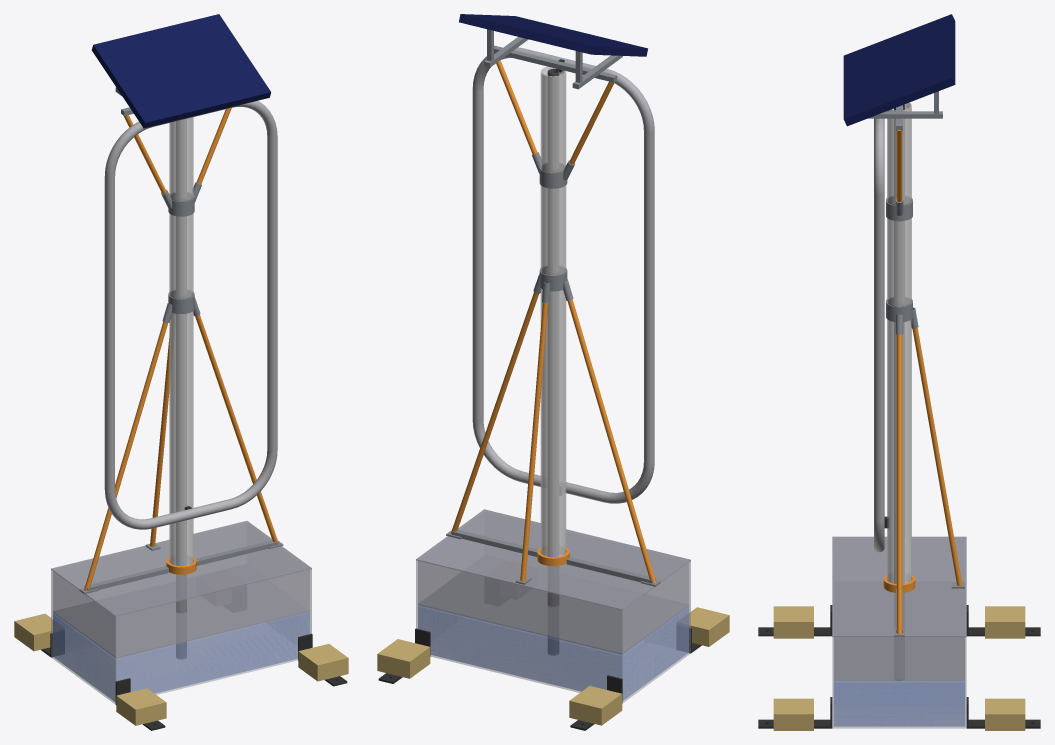
Rendered from unit-water.glb.
3 views of the same model, side by side, from view 1: azimuth 30°, elevation 25°; view 2: azimuth 150°, elevation 25°; view 3: azimuth 270°, elevation 25° (orthographic). The views are drawn at different scales.
Visible parts, largest first — view 1: tank, solar_panel_30W, track_loop, lid, water_volume, growing_pipe, shelf, spine_tube, sandbags, lower_aframe_and_back_strut_16mm, base_bar_and_lid_plates, clamp_collars_50mm (+2 smaller); view 2: tank, growing_pipe, water_volume, lid, track_loop, shelf, spine_tube, lower_aframe_and_back_strut_16mm, sandbags, solar_panel_30W, base_bar_and_lid_plates, clamp_collars_50mm (+4 smaller); view 3: tank, lid, growing_pipe, solar_panel_30W, water_volume, shelf, sandbags, track_loop, lower_aframe_and_back_strut_16mm, spine_tube, fold_out_feet, clamp_collars_50mm (+2 smaller).
Boxes of the visible parts, box(x1,y1,x2,y2) form: tank: box(51, 522, 311, 704); solar_panel_30W: box(91, 14, 271, 128); track_loop: box(104, 101, 277, 529); lid: box(51, 521, 311, 616); water_volume: box(53, 612, 309, 701); growing_pipe: box(169, 117, 193, 566); shelf: box(53, 580, 309, 658); spine_tube: box(176, 119, 186, 658); sandbags: box(14, 613, 348, 725); lower_aframe_and_back_strut_16mm: box(84, 315, 278, 590); base_bar_and_lid_plates: box(79, 540, 283, 594); clamp_collars_50mm: box(161, 182, 201, 322); tank: box(416, 511, 690, 702); growing_pipe: box(540, 66, 566, 557); water_volume: box(418, 606, 688, 700); lid: box(416, 509, 690, 610); track_loop: box(472, 47, 654, 503); shelf: box(418, 572, 688, 654); spine_tube: box(547, 68, 559, 654); lower_aframe_and_back_strut_16mm: box(451, 292, 656, 583); sandbags: box(377, 607, 729, 725); solar_panel_30W: box(459, 14, 647, 56); base_bar_and_lid_plates: box(446, 530, 660, 586); clamp_collars_50mm: box(532, 152, 575, 302); tank: box(832, 637, 966, 728); lid: box(832, 536, 966, 637); growing_pipe: box(887, 102, 911, 583); solar_panel_30W: box(843, 14, 955, 126); water_volume: box(834, 681, 964, 726); shelf: box(834, 637, 964, 680); sandbags: box(773, 606, 1025, 730); track_loop: box(874, 118, 884, 552); lower_aframe_and_back_strut_16mm: box(896, 328, 962, 633); spine_tube: box(894, 104, 904, 627); fold_out_feet: box(758, 605, 1040, 728); clamp_collars_50mm: box(886, 198, 918, 334).
Bounding box in the file's own units: 760 × 2080 × 840.
